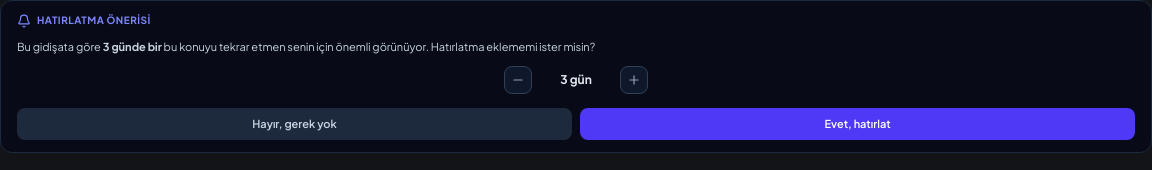
it: ReminderPrompt › + butonuna basınca gün sayısını artırır
Click the 2nd button: (634, 80) [620,66,648,94]
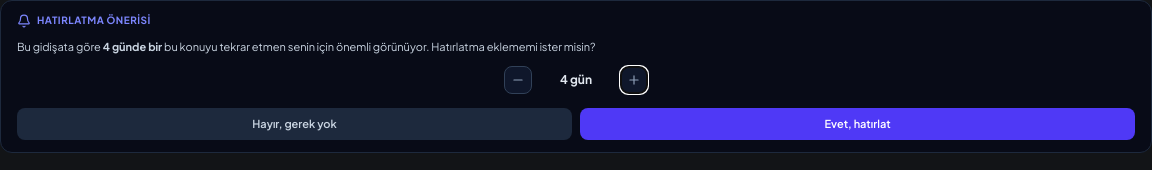
Expected: the text "4 gün" is shown, [560,72,592,87]
